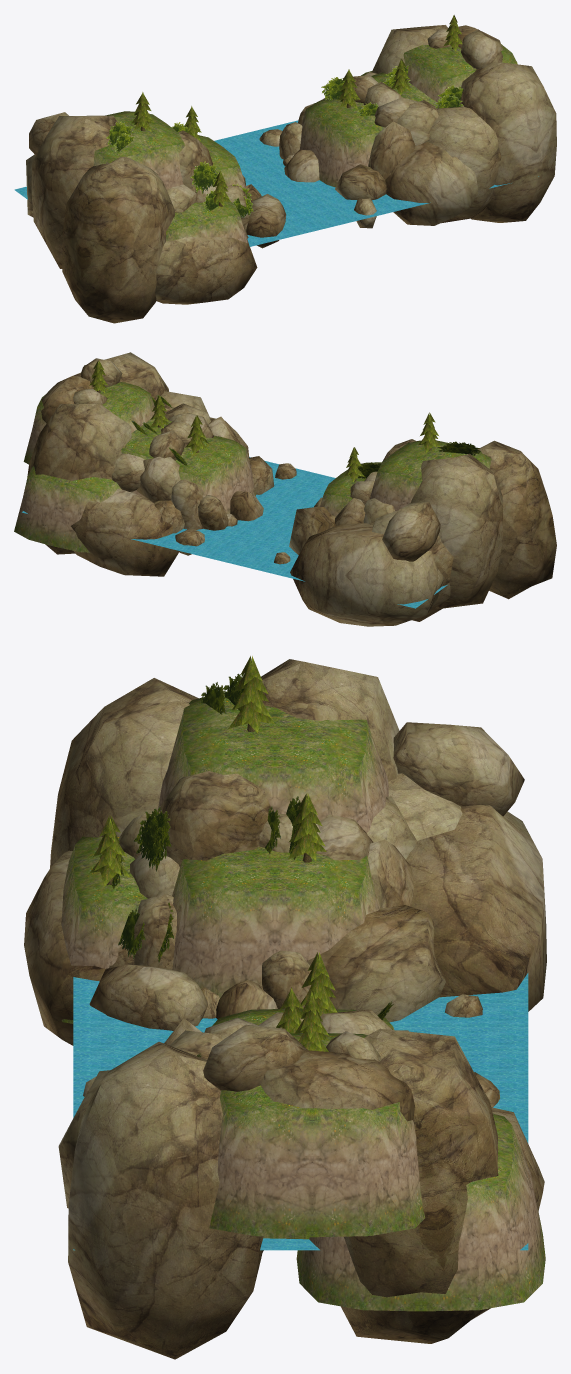
The model's file is BikeRoad010.FBX.
3 renders of one model, top to bottom at view 1: azimuth 30°, elevation 25°; view 2: azimuth 150°, elevation 25°; view 3: azimuth 270°, elevation 25°, orthographic. The views are drawn at different scales.
Visible parts, largest first — view 1: Rock (×22), Ground (×6), Wave, Tree (×2), GrassPlane; view 2: Rock (×29), Ground (×6), Wave, Tree (×5); view 3: Rock (×25), Ground (×5), Wave, Tree (×5), GrassPlane.
Boxes of the visible parts, x1,y1,x2,y2 form: Rock (×22): [29, 25, 556, 323]; Ground (×6): [93, 44, 517, 243]; Wave: [14, 120, 538, 246]; Tree (×2): [131, 69, 360, 131]; GrassPlane: [190, 161, 218, 193]; Rock (×29): [27, 352, 556, 626]; Ground (×6): [14, 382, 491, 552]; Wave: [22, 457, 447, 608]; Tree (×5): [89, 360, 439, 482]; Rock (×25): [24, 659, 546, 1359]; Ground (×5): [61, 694, 545, 1311]; Wave: [73, 973, 528, 1250]; Tree (×5): [90, 656, 337, 1051]; GrassPlane: [133, 806, 171, 871].
Bounding box in the file's own units: 9486 × 3655 × 4596.
